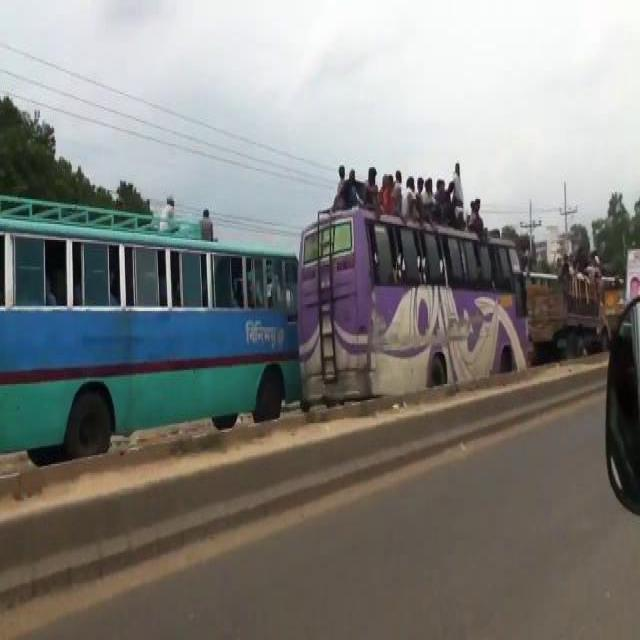bus: (0, 183, 299, 462), (295, 200, 531, 401)
truck: (526, 276, 610, 368)
